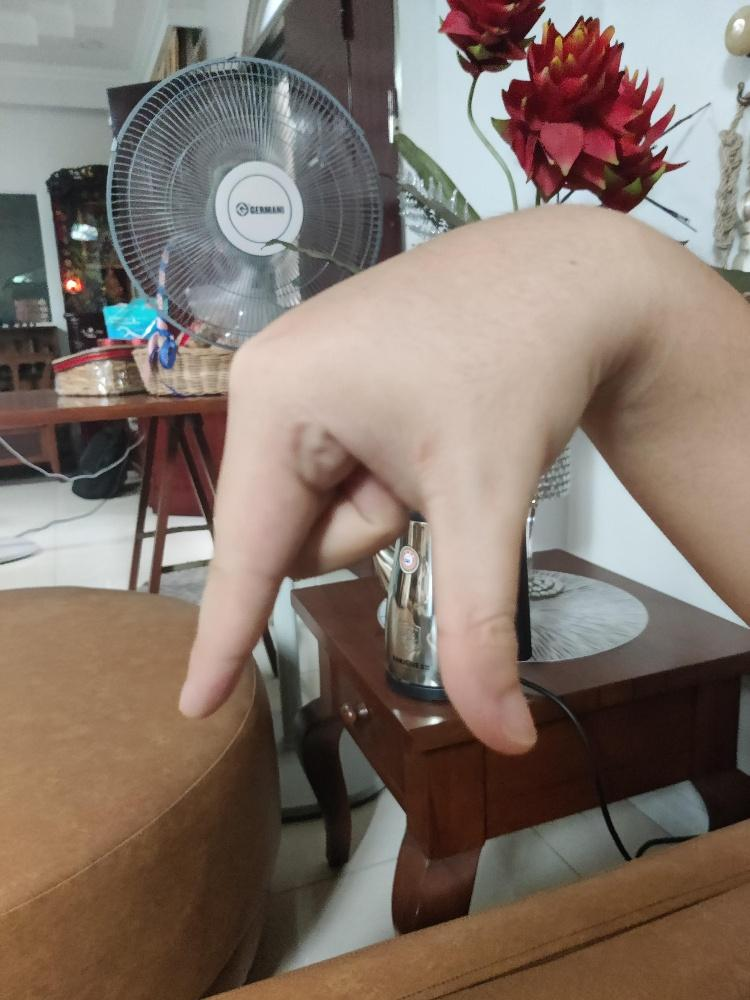q: (174, 200, 608, 758)
